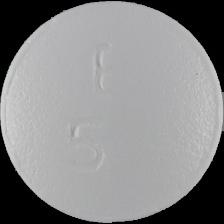16729-023: (0, 0, 224, 224)
